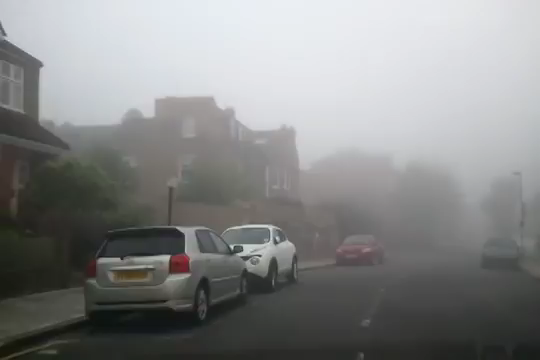car: (81, 225, 251, 327), (205, 223, 300, 295), (333, 232, 384, 268), (481, 234, 522, 272)
